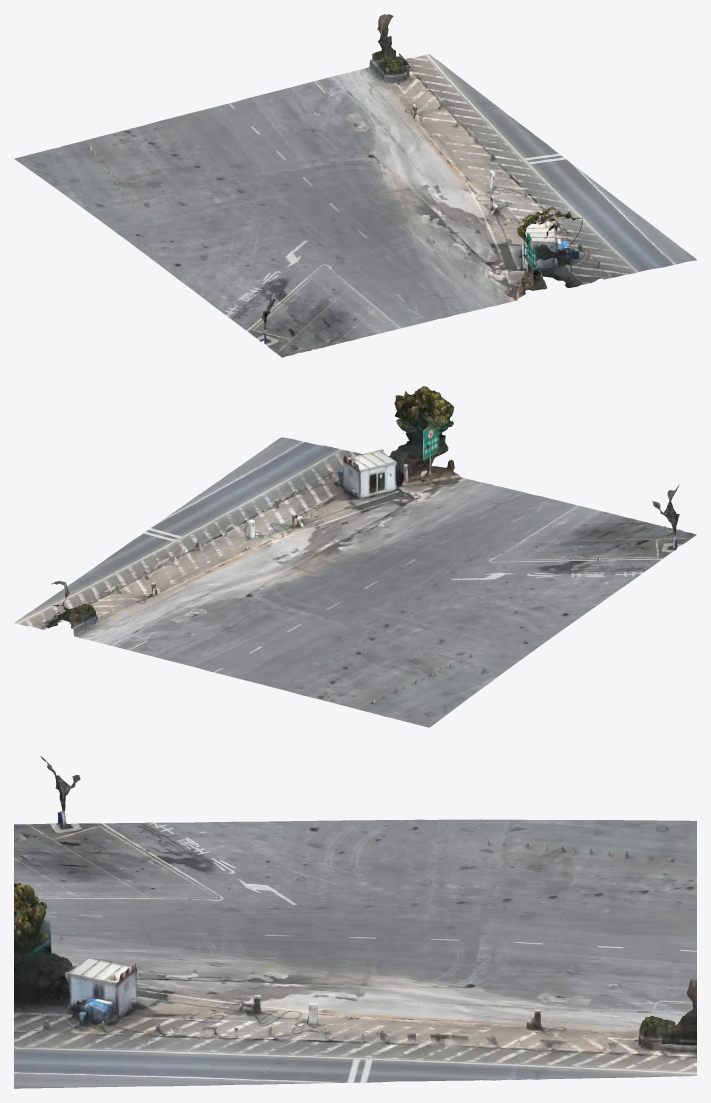
Rendered from BlockYXBA_L19_3.glb.
The picture shows the model from 3 angles, top to bottom: view 1: azimuth 30°, elevation 25°; view 2: azimuth 150°, elevation 25°; view 3: azimuth 270°, elevation 25°; orthographic projection. The views are drawn at different scales.
Parts seen in each view (by area): view 1: rtc; view 2: rtc; view 3: rtc.
Boxes of the visible parts, x1,y1,x2,y2 form: rtc: (14, 14, 696, 357); rtc: (14, 386, 696, 727); rtc: (14, 756, 696, 1088).
Bounding box in the file's own units: 43.62 × 8.77 × 48.65.
2 materials, 2 textured.
